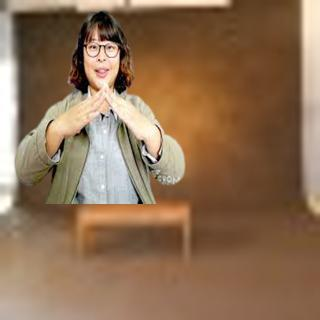HOME: (55, 82, 151, 140)
